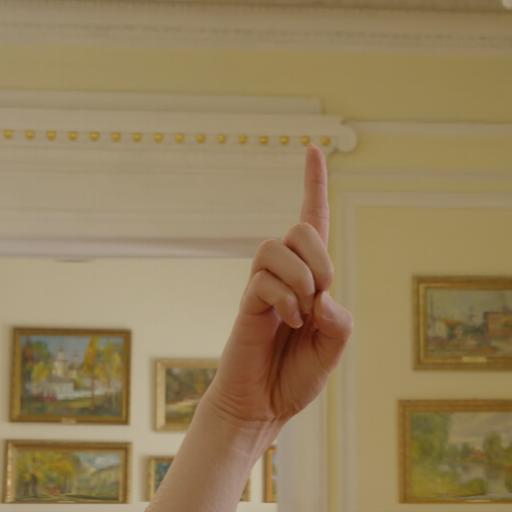D: (152, 132, 382, 512)
